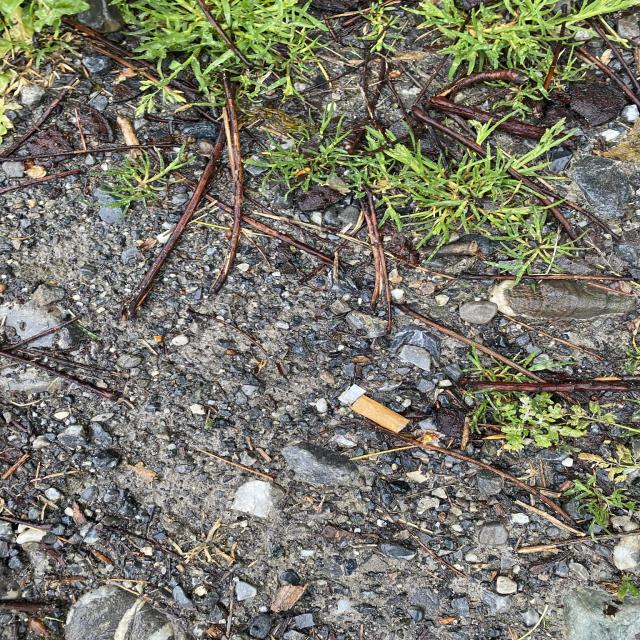other waste: (337, 383, 411, 434)
